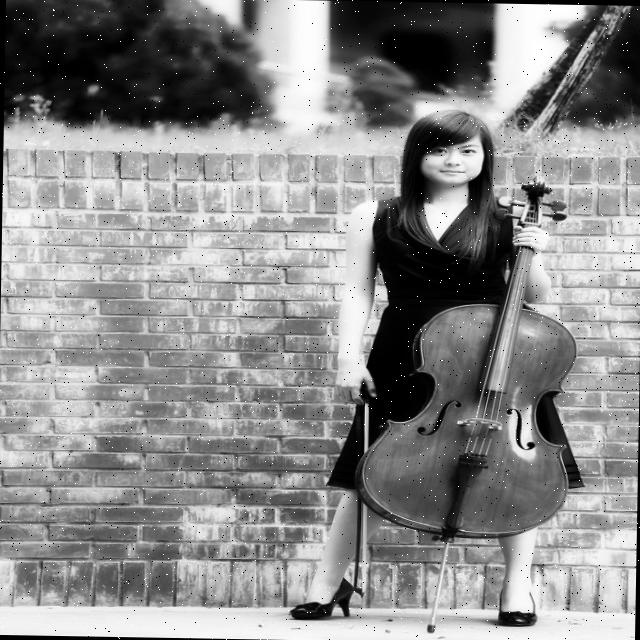cello: (346, 168, 576, 542)
